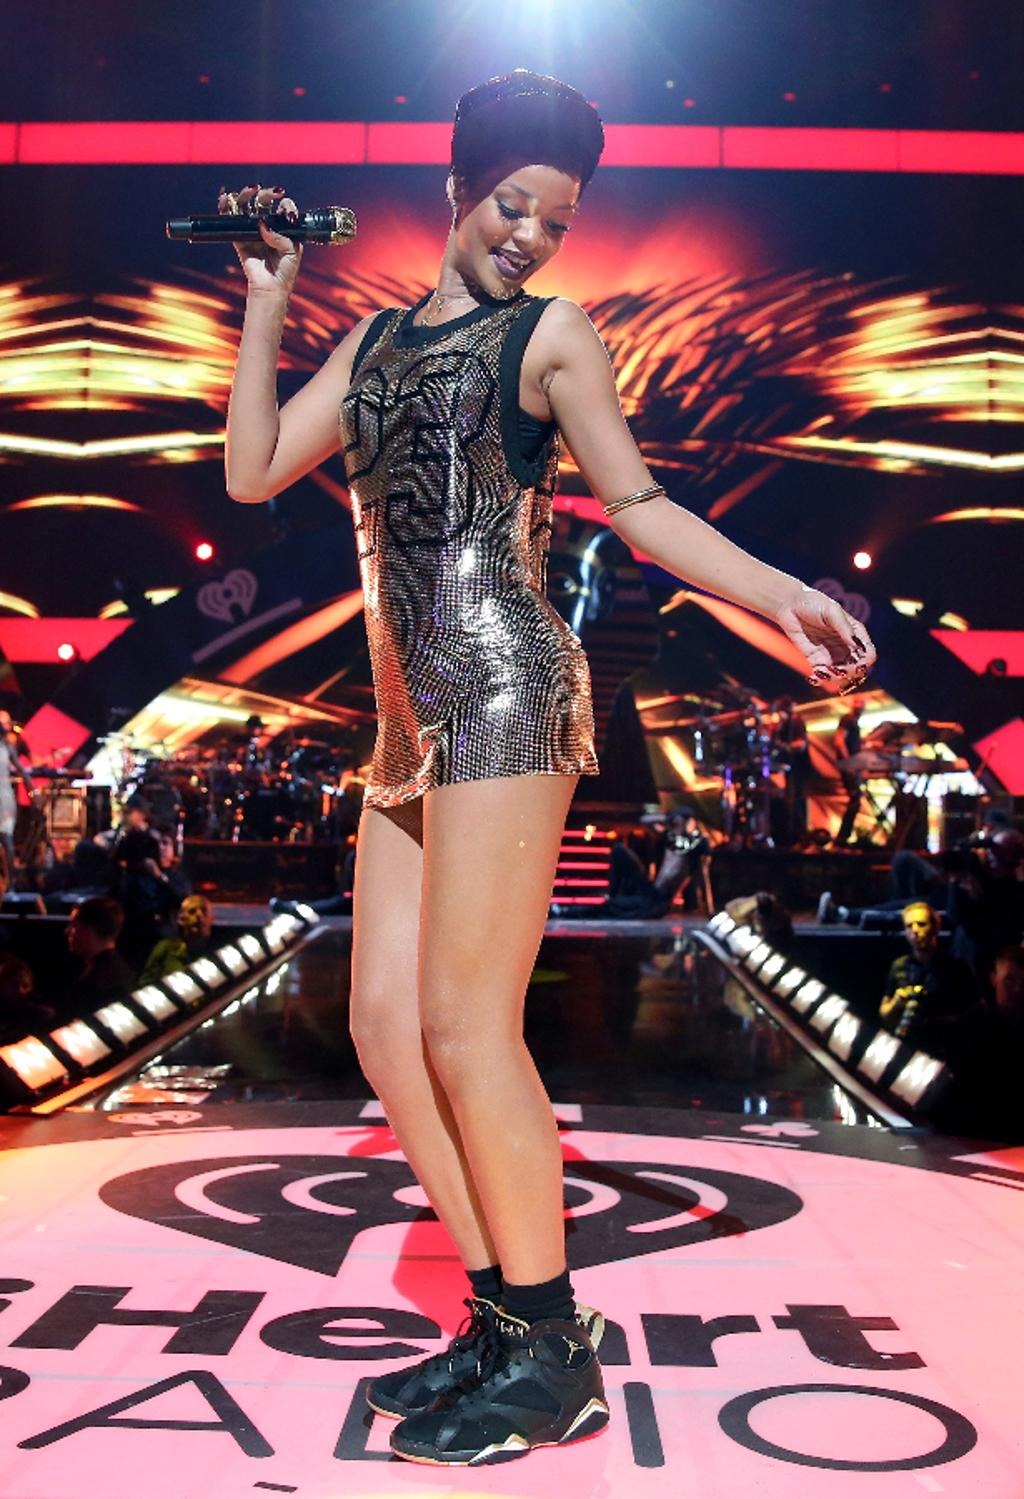face: (459, 164, 573, 302)
